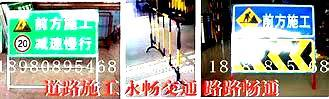sign: (232, 5, 315, 74), (7, 11, 97, 56)
